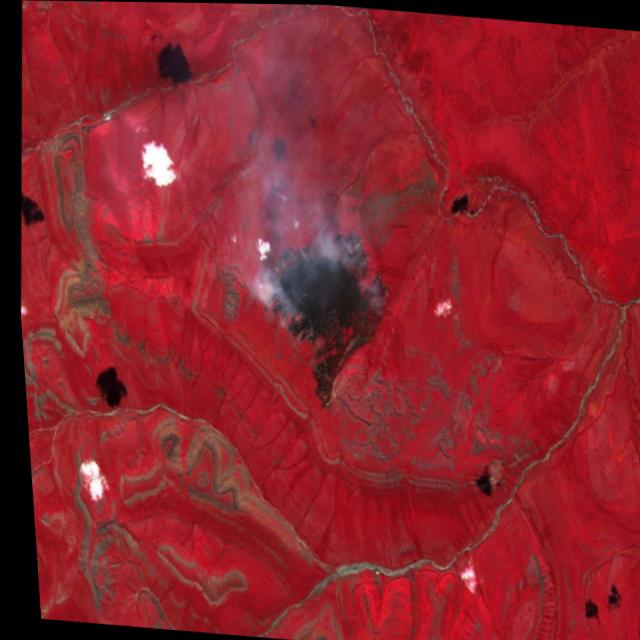fire: (245, 217, 397, 340)
